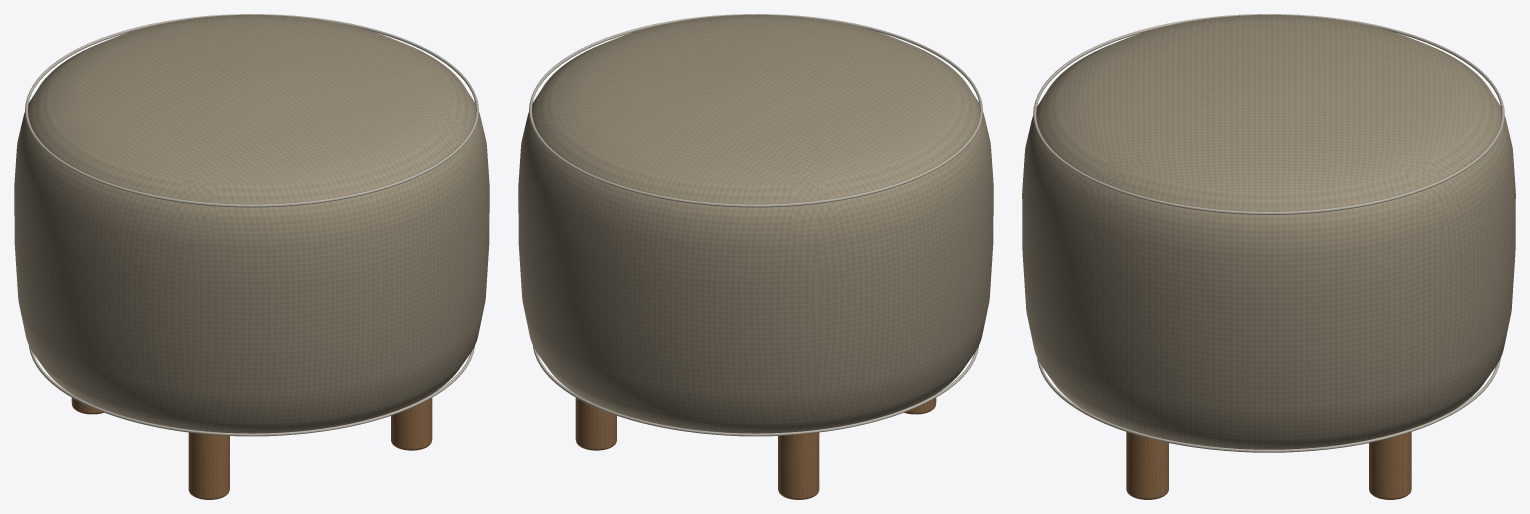
Rendered from pufe.glb.
3 renders of one model, left to right at view 1: azimuth 30°, elevation 25°; view 2: azimuth 150°, elevation 25°; view 3: azimuth 270°, elevation 25°, orthographic. The views are drawn at different scales.
Parts seen in each view (by area): view 1: pufe; view 2: pufe; view 3: pufe.
Boxes of the visible parts, box(x1,y1,x2,y2) form: pufe: box(14, 14, 489, 499); pufe: box(518, 14, 993, 499); pufe: box(1022, 14, 1515, 499).
Size of the model in its own units: 0.5291 by 0.4239 by 0.5291.
3 materials, 2 textured.
